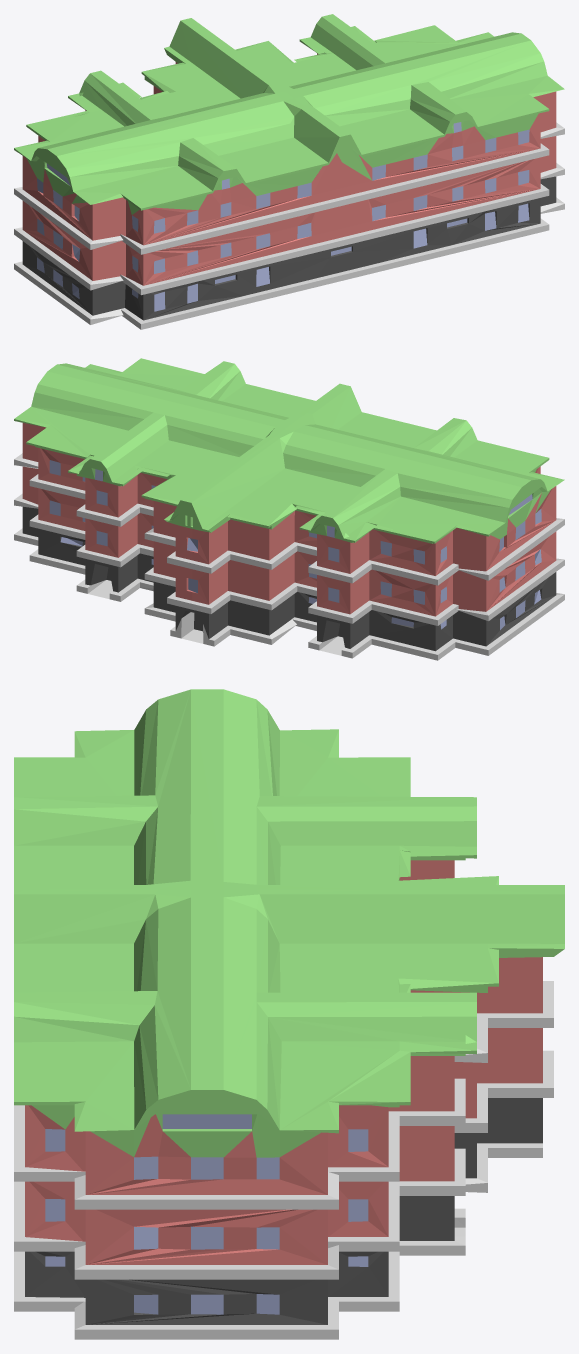
File: MorHouse3_LOD2.fbx
3 renders of one model, top to bottom at view 1: azimuth 30°, elevation 25°; view 2: azimuth 150°, elevation 25°; view 3: azimuth 270°, elevation 25°, orthographic. The views are drawn at different scales.
Parts seen in each view (by area): view 1: Cube.001; view 2: Cube.001; view 3: Cube.001.
Part boxes in pixels (bbox=[...]): Cube.001: bbox=[14, 14, 564, 329]; Cube.001: bbox=[14, 358, 564, 660]; Cube.001: bbox=[14, 689, 564, 1339].
Size of the model in its own units: 8600 by 2500 by 5000.
